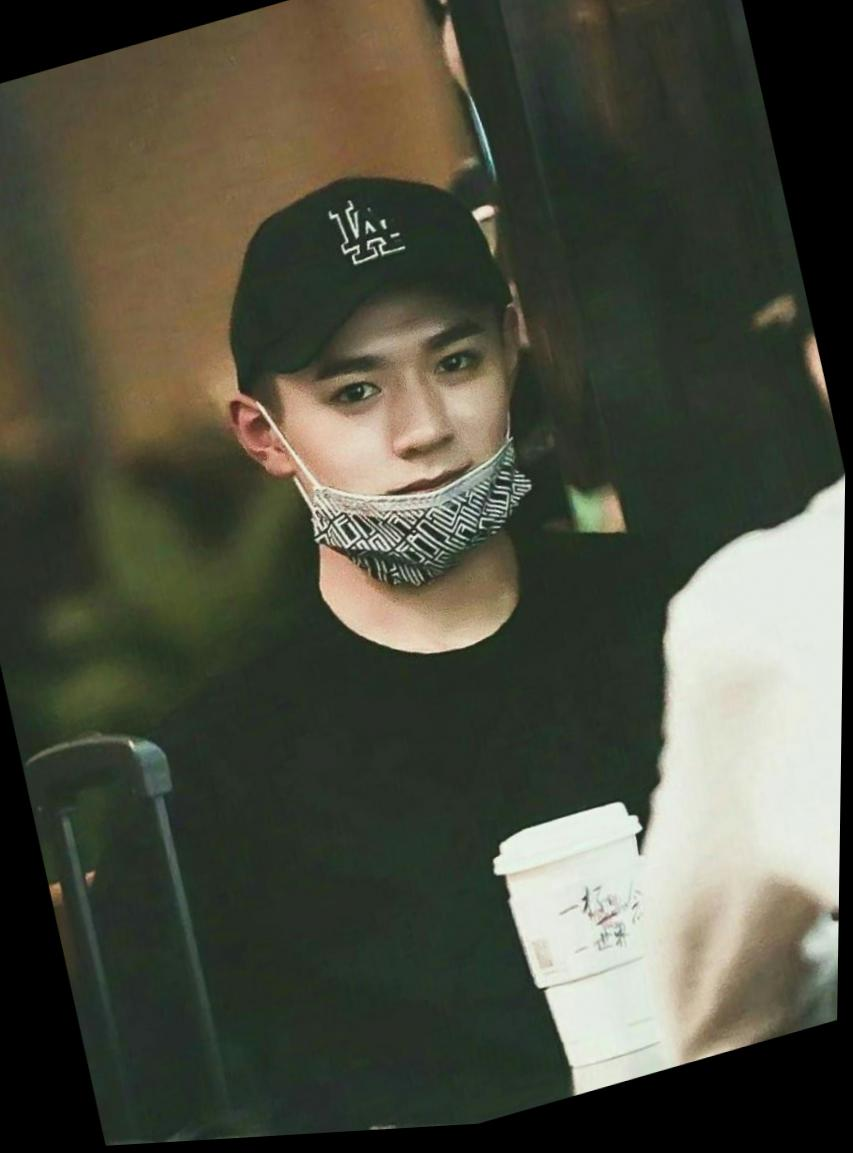WRONG: (273, 304, 562, 602)
